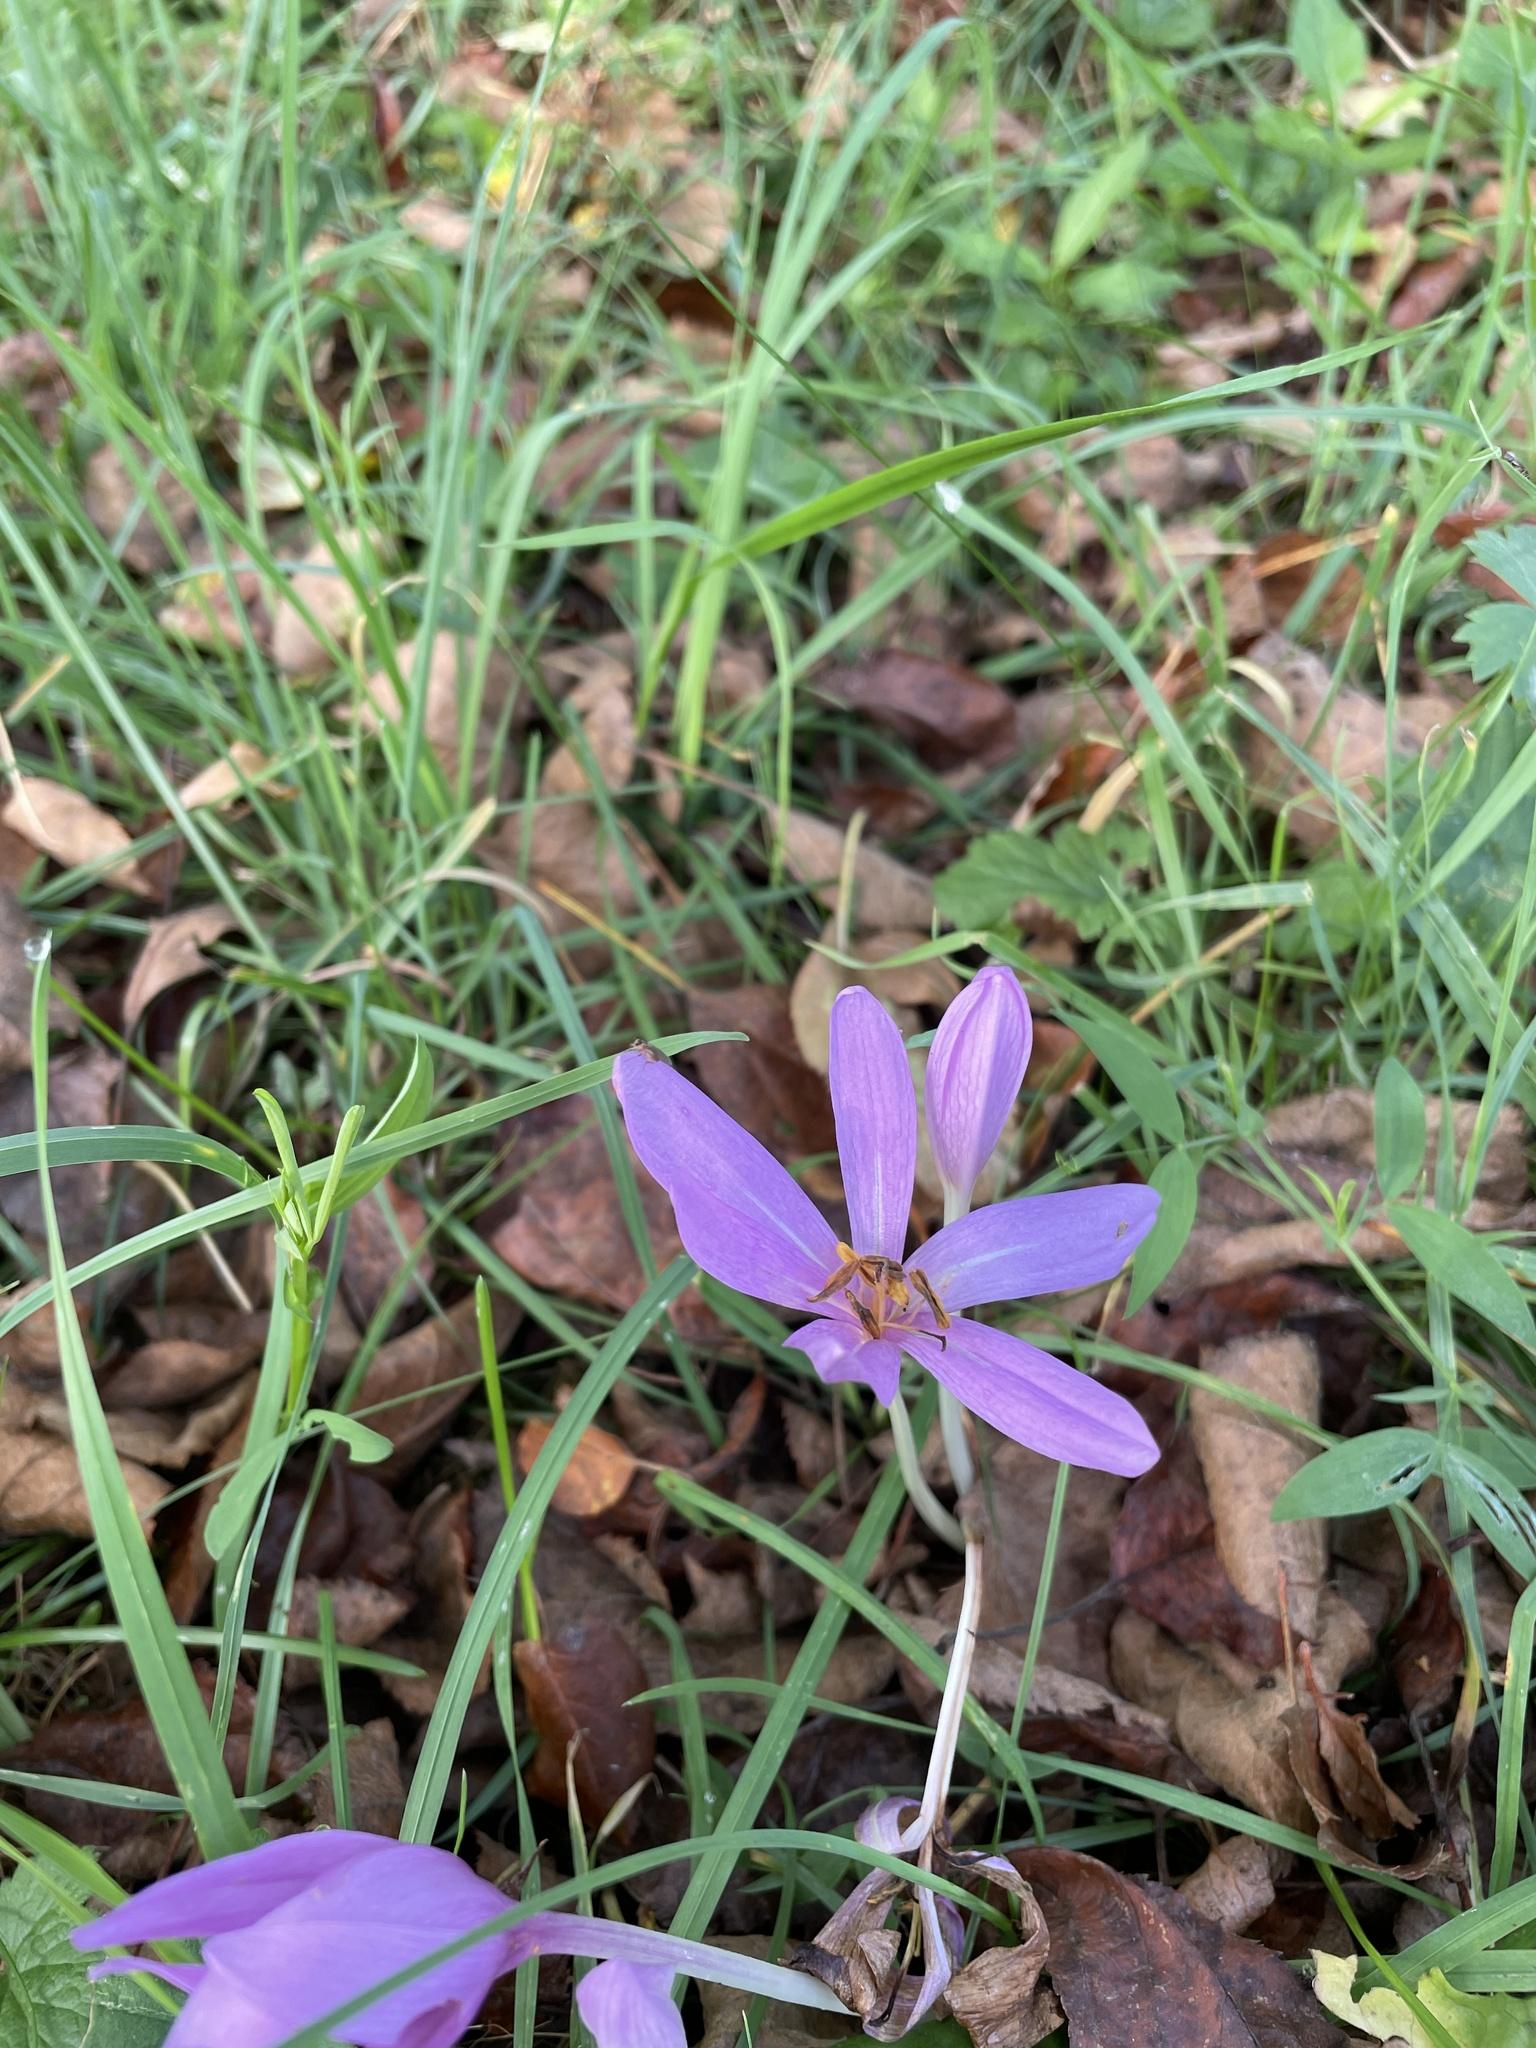Colchicum autumnale L: (561, 934, 1346, 1621), (82, 1788, 815, 2048)
